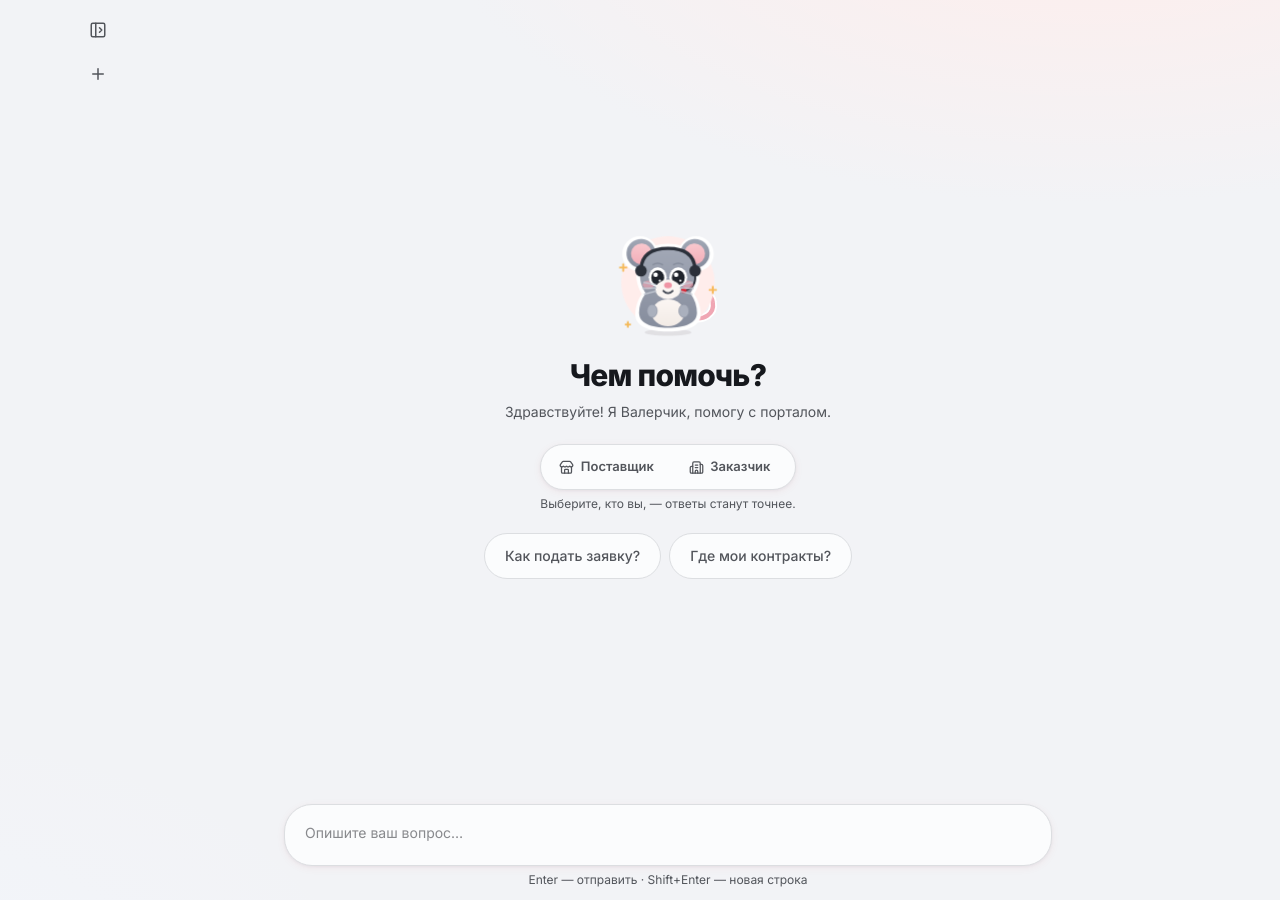
Test: ChatPage › «Мои обращения»: прошлое обращение открывается из списка вместе с историей и статусом
The image size is (1280, 900).
Check: the text "Здравствуйте! Я Валерчик, помогу с порталом." is shown, box top-left (505, 403), bottom-right (831, 420)
What coordinates should you click on to do the following:
click the button named "Показать мои обращения"
I would click on:
 (98, 30)
Its box is top-left (80, 12), bottom-right (116, 48).
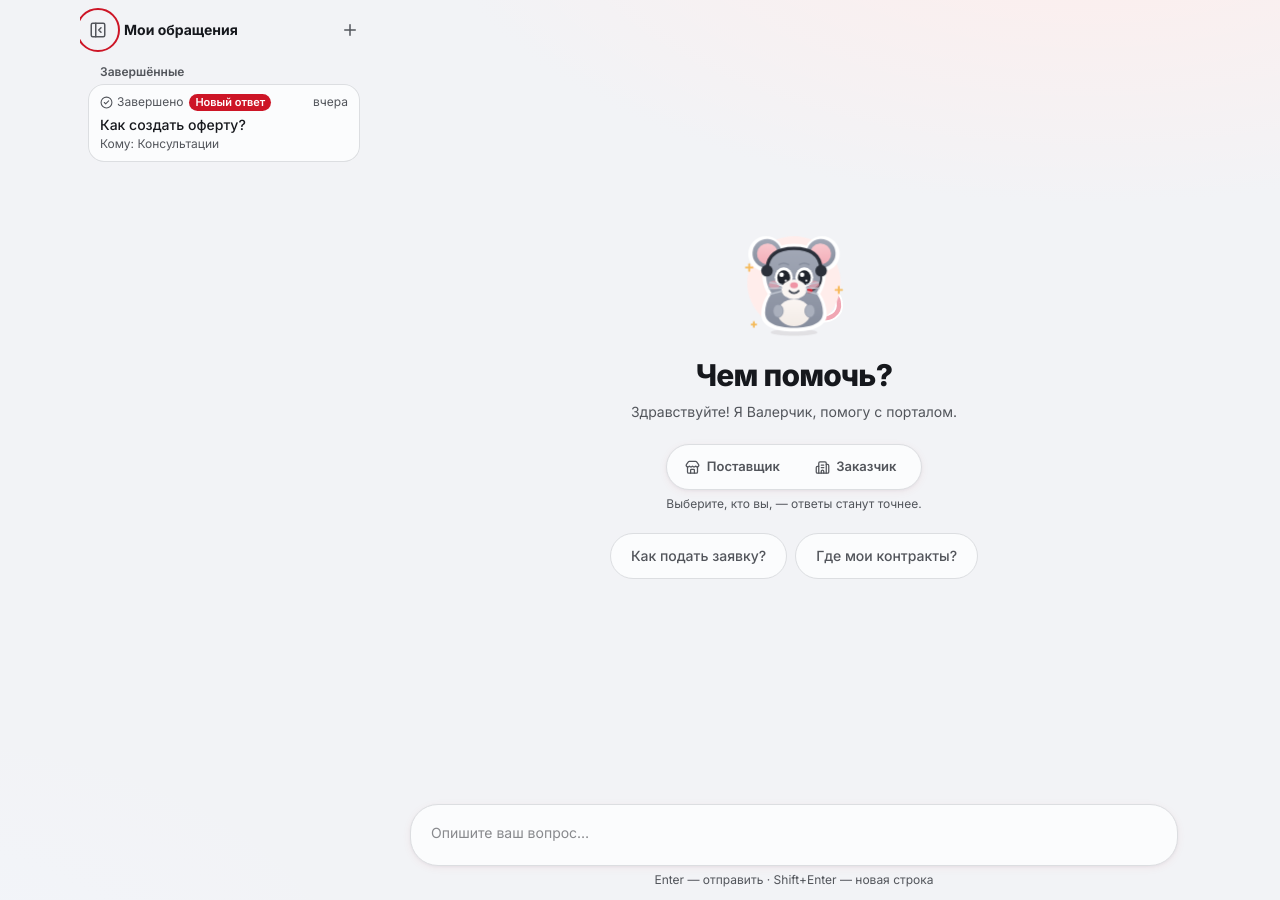
Check: the text "Новый ответ" is shown, box top-left (189, 94), bottom-right (271, 111)
What coordinates should you click on to do the following:
click the button "Как создать оферту?"
I would click on:
 (224, 123)
Its box is top-left (88, 84), bottom-right (360, 162).
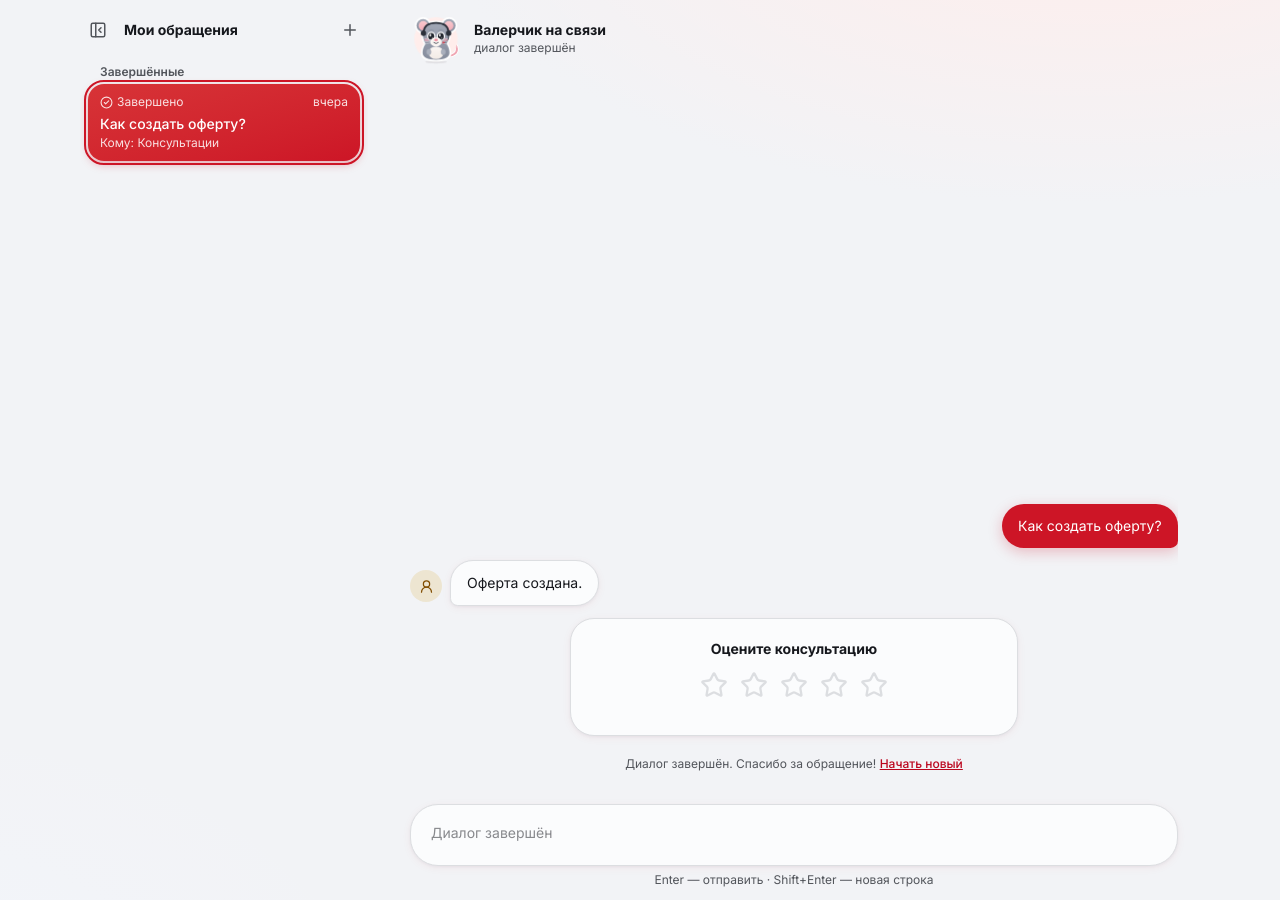
Check: the text "Оферта создана." is shown, box top-left (467, 573), bottom-right (582, 593)
Check: the text "Диалог завершён. Спасибо за обращение!" is shown, box top-left (625, 756), bottom-right (876, 771)
